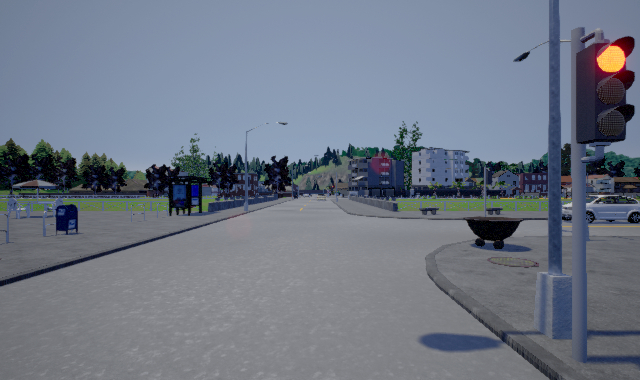traffic_light: (576, 34, 635, 144)
vehicle: (561, 192, 640, 223)
